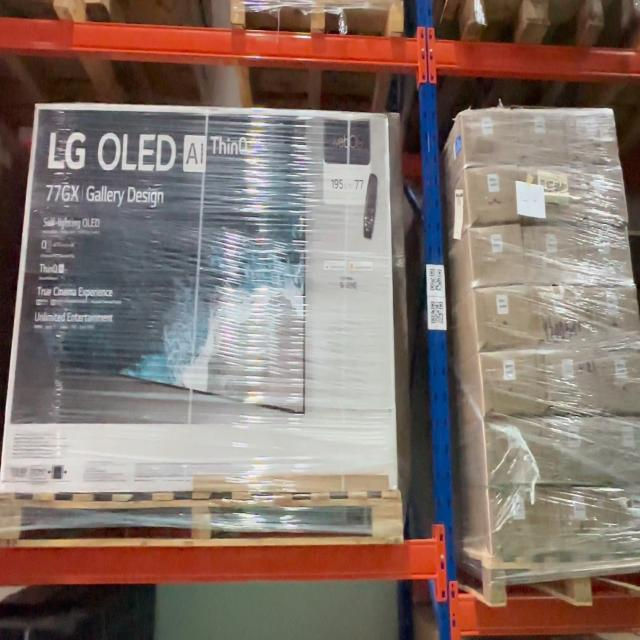box: (1, 107, 396, 486), (1, 502, 401, 543)
